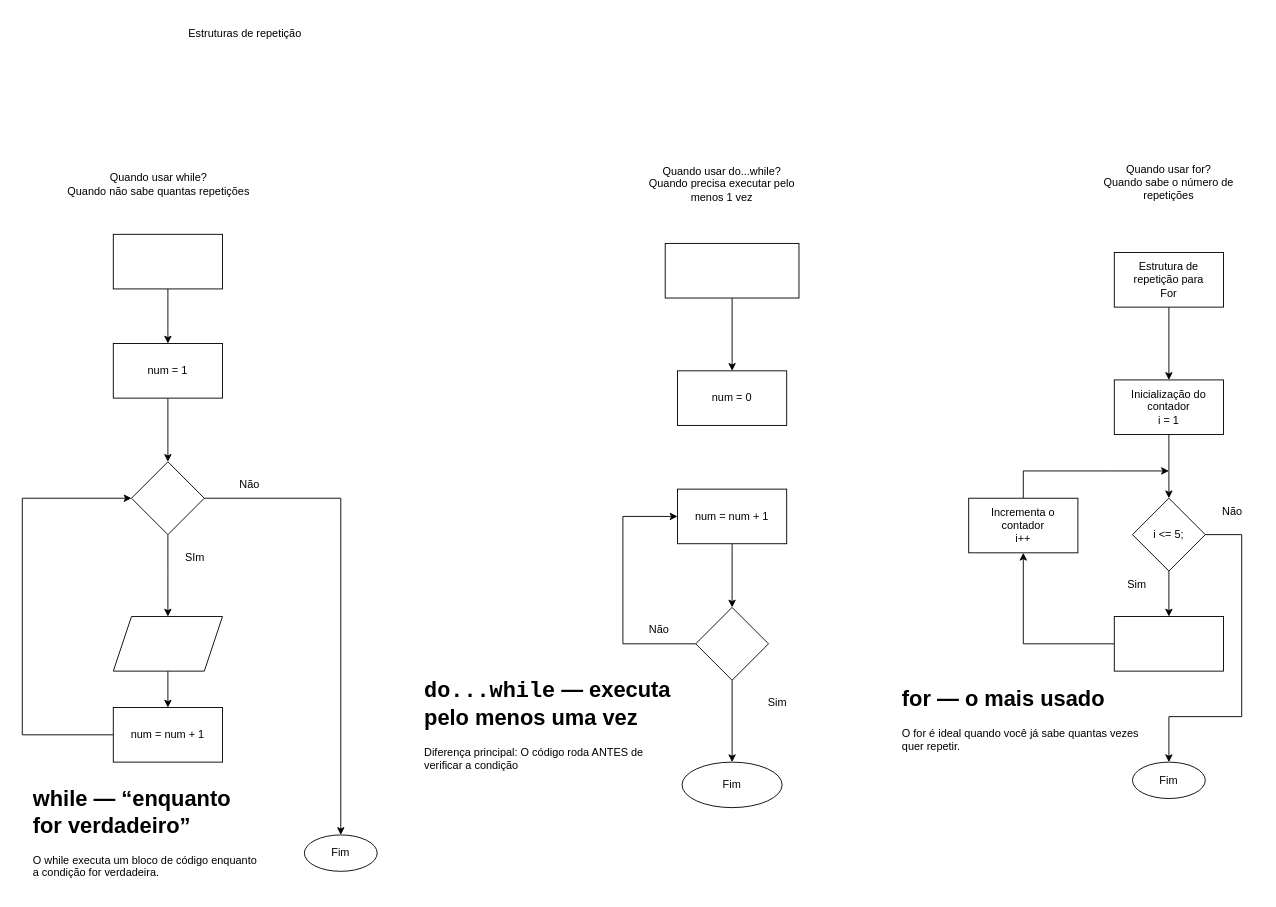
Image size: 1276x907. Some labels were removed from this diagram. Here are the shapes that lost their labels. From the top down, the box of each, then its label:
(112, 233, 222, 289): Estrutura de Repetição Enquanto while
(664, 243, 799, 298): Estrutura de repetição Repita até do while
(131, 461, 204, 535): num <= 10
(112, 616, 222, 671): Escrveva num
(695, 607, 768, 680): Num > 10
(1113, 616, 1223, 671): Instruções
